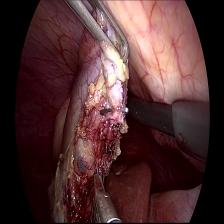Grasper: (62, 2, 132, 68)
Scissors: (88, 168, 120, 224)
